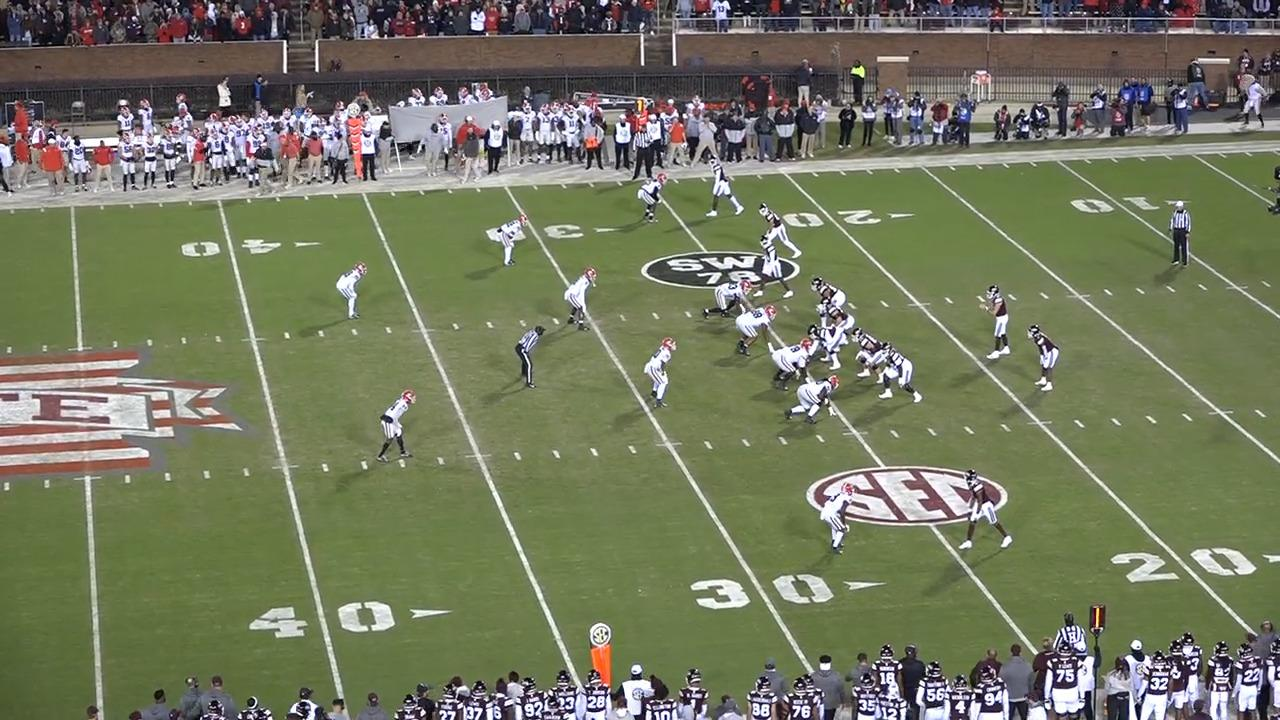player: (951, 467, 1012, 558), (375, 390, 416, 466), (879, 342, 926, 405), (817, 481, 854, 559), (783, 377, 838, 429), (758, 203, 804, 263), (754, 237, 795, 303), (977, 283, 1009, 364), (711, 158, 750, 222), (1030, 326, 1065, 397), (771, 341, 817, 395), (730, 306, 774, 359), (649, 336, 680, 411), (568, 265, 601, 331), (851, 327, 889, 384), (706, 281, 757, 322), (338, 259, 372, 320), (803, 324, 842, 372), (493, 215, 524, 270), (640, 172, 670, 226), (818, 299, 858, 333), (811, 276, 848, 307)
ref: (1165, 199, 1196, 268), (629, 119, 662, 180), (510, 326, 540, 393), (1055, 608, 1088, 657)
